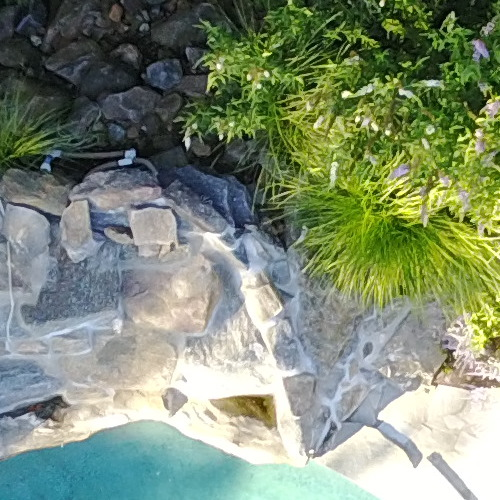no larvae: (200, 380, 299, 446), (3, 385, 85, 437)
stone feature: (202, 382, 301, 448), (5, 387, 87, 439)
